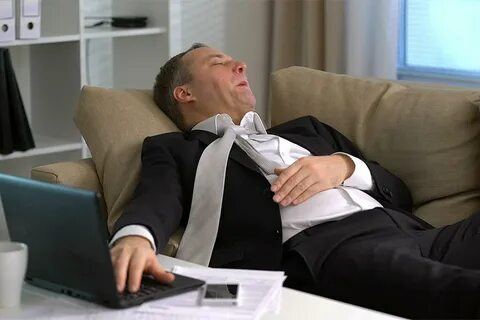sleep: (122, 42, 449, 304)
